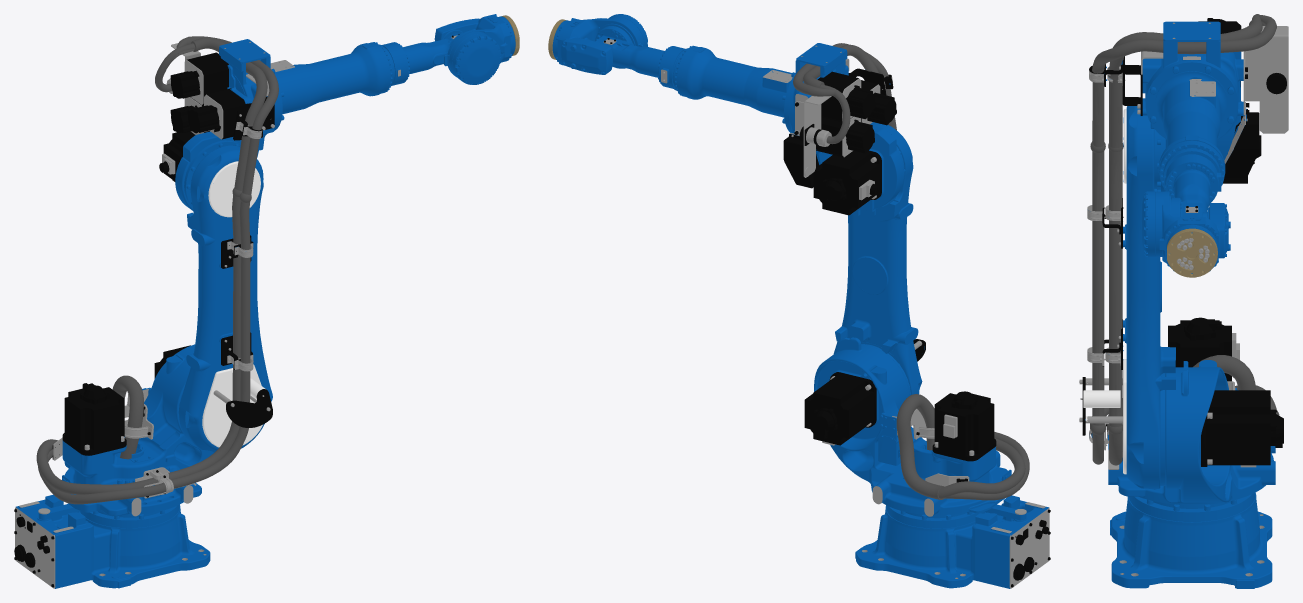
The model's file is Yaskawa_GP110.glb.
The picture shows the model from 3 angles, left to right: view 1: azimuth 30°, elevation 25°; view 2: azimuth 150°, elevation 25°; view 3: azimuth 270°, elevation 25°; orthographic projection. The views are drawn at different scales.
Parts seen in each view (by area): view 1: link_2, link_1, link_3, link_0, link_4, link_5; view 2: link_1, link_3, link_0, link_2, link_4, link_5; view 3: link_3, link_2, link_1, link_0, link_4, link_5, link_6.
Part boxes in pixels (bbox=[...]): link_2: bbox=[179, 145, 272, 453]; link_1: bbox=[36, 344, 248, 516]; link_3: bbox=[155, 36, 385, 210]; link_0: bbox=[14, 494, 210, 588]; link_4: bbox=[369, 31, 501, 93]; link_5: bbox=[434, 14, 515, 76]; link_1: bbox=[804, 337, 1029, 516]; link_3: bbox=[682, 43, 905, 217]; link_0: bbox=[855, 495, 1050, 588]; link_2: bbox=[833, 122, 925, 394]; link_4: bbox=[595, 14, 697, 96]; link_5: bbox=[552, 18, 642, 74]; link_3: bbox=[1089, 14, 1288, 191]; link_2: bbox=[1079, 98, 1175, 488]; link_1: bbox=[1089, 317, 1283, 505]; link_0: bbox=[1110, 492, 1272, 588]; link_4: bbox=[1142, 140, 1224, 256]; link_5: bbox=[1159, 191, 1230, 273]; link_6: bbox=[1167, 228, 1217, 277].
Bounding box in the file's own units: 1.94 × 1.84 × 0.5854.
